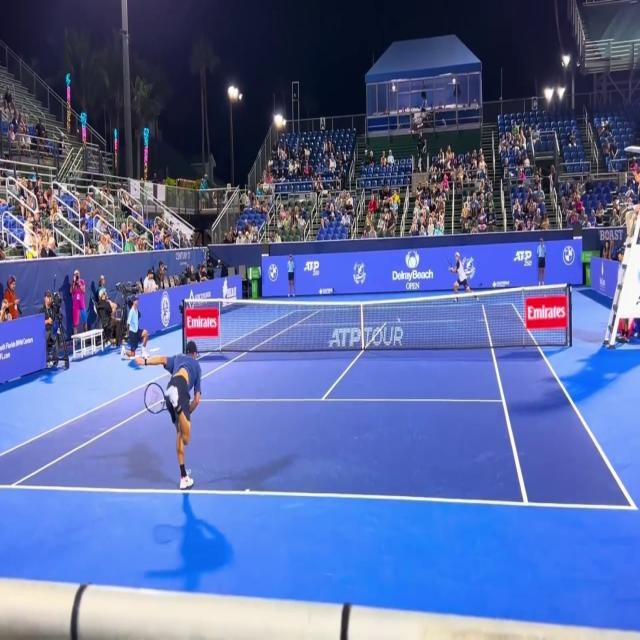tennisBall: (396, 316, 402, 326)
